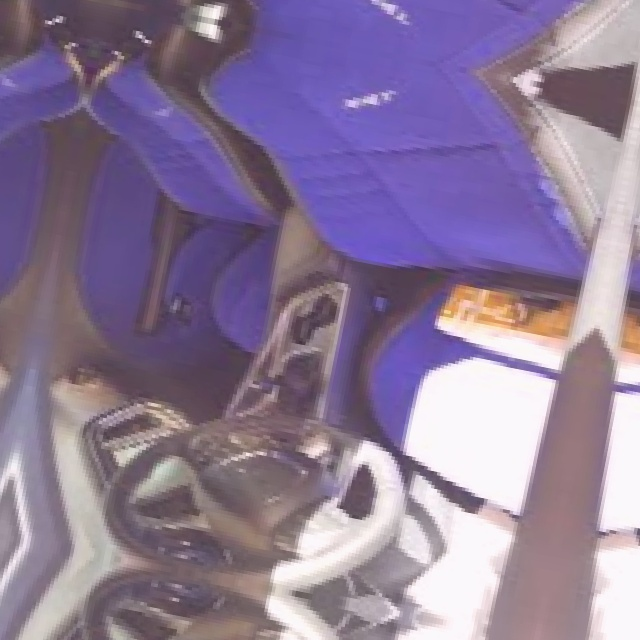ISA: (469, 289, 532, 330)
